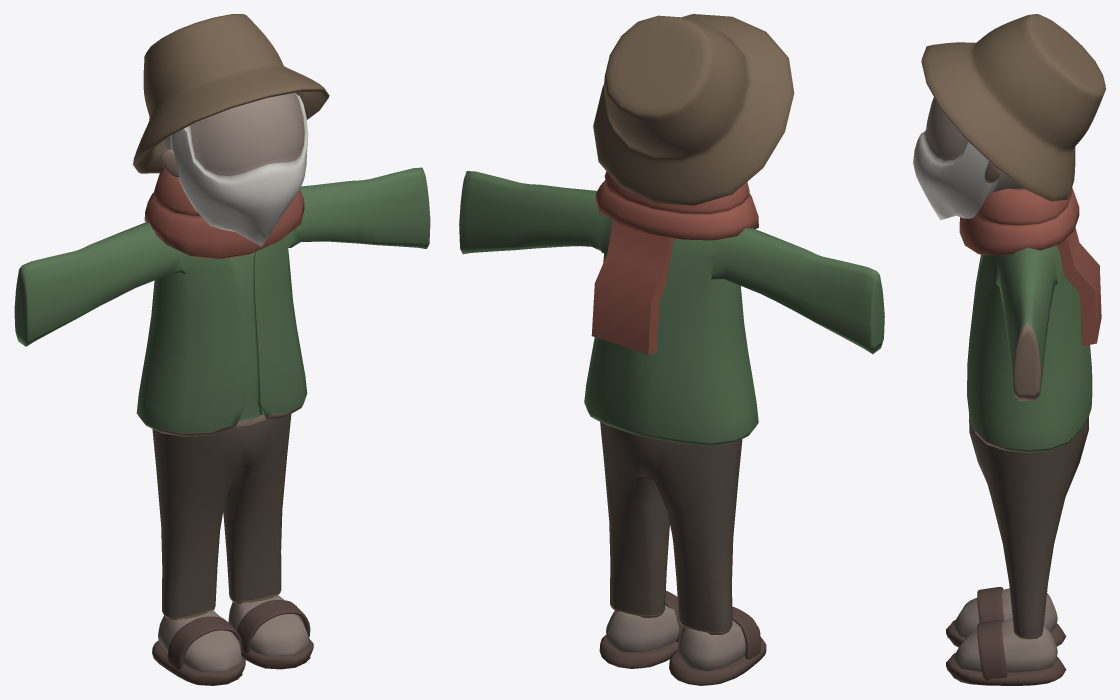
File: dog_owner.fbx
3 renders of one model, left to right at view 1: azimuth 30°, elevation 25°; view 2: azimuth 150°, elevation 25°; view 3: azimuth 270°, elevation 25°, orthographic. The views are drawn at different scales.
Visible parts, largest first — view 1: pCube29, pCube36, pCube41, pCube30, pCube35, pCube34, pCube32, pCube33; view 2: pCube29, pCube41, pCube31, pCube30, pCube32, pCube33, pCube35; view 3: pCube29, pCube41, pCube36, pCube30, pCube31, pCube33, pCube34, pCube35, pCube32.
Part boxes in pixels (bbox=[...]): pCube29: bbox=[14, 167, 430, 672]; pCube36: bbox=[162, 92, 308, 246]; pCube41: bbox=[133, 14, 329, 173]; pCube30: bbox=[144, 168, 304, 259]; pCube35: bbox=[167, 616, 242, 669]; pCube34: bbox=[237, 600, 310, 653]; pCube32: bbox=[152, 640, 245, 685]; pCube33: bbox=[241, 638, 313, 669]; pCube29: bbox=[459, 171, 884, 671]; pCube41: bbox=[593, 14, 794, 205]; pCube31: bbox=[591, 220, 674, 354]; pCube30: bbox=[595, 171, 758, 240]; pCube32: bbox=[669, 637, 766, 685]; pCube33: bbox=[599, 635, 678, 668]; pCube35: bbox=[732, 606, 761, 659]; pCube29: bbox=[953, 245, 1092, 672]; pCube41: bbox=[921, 14, 1105, 201]; pCube36: bbox=[913, 97, 1024, 220]; pCube30: bbox=[959, 187, 1079, 255]; pCube31: bbox=[1057, 227, 1101, 346]; pCube33: bbox=[946, 653, 1066, 685]; pCube34: bbox=[977, 620, 1007, 680]; pCube35: bbox=[977, 587, 1004, 622]; pCube32: bbox=[946, 620, 1066, 647].
Bounding box in the file's own units: 10.83 × 16.15 × 4.47.
